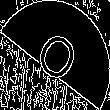O_SW: (28, 21, 82, 89)
